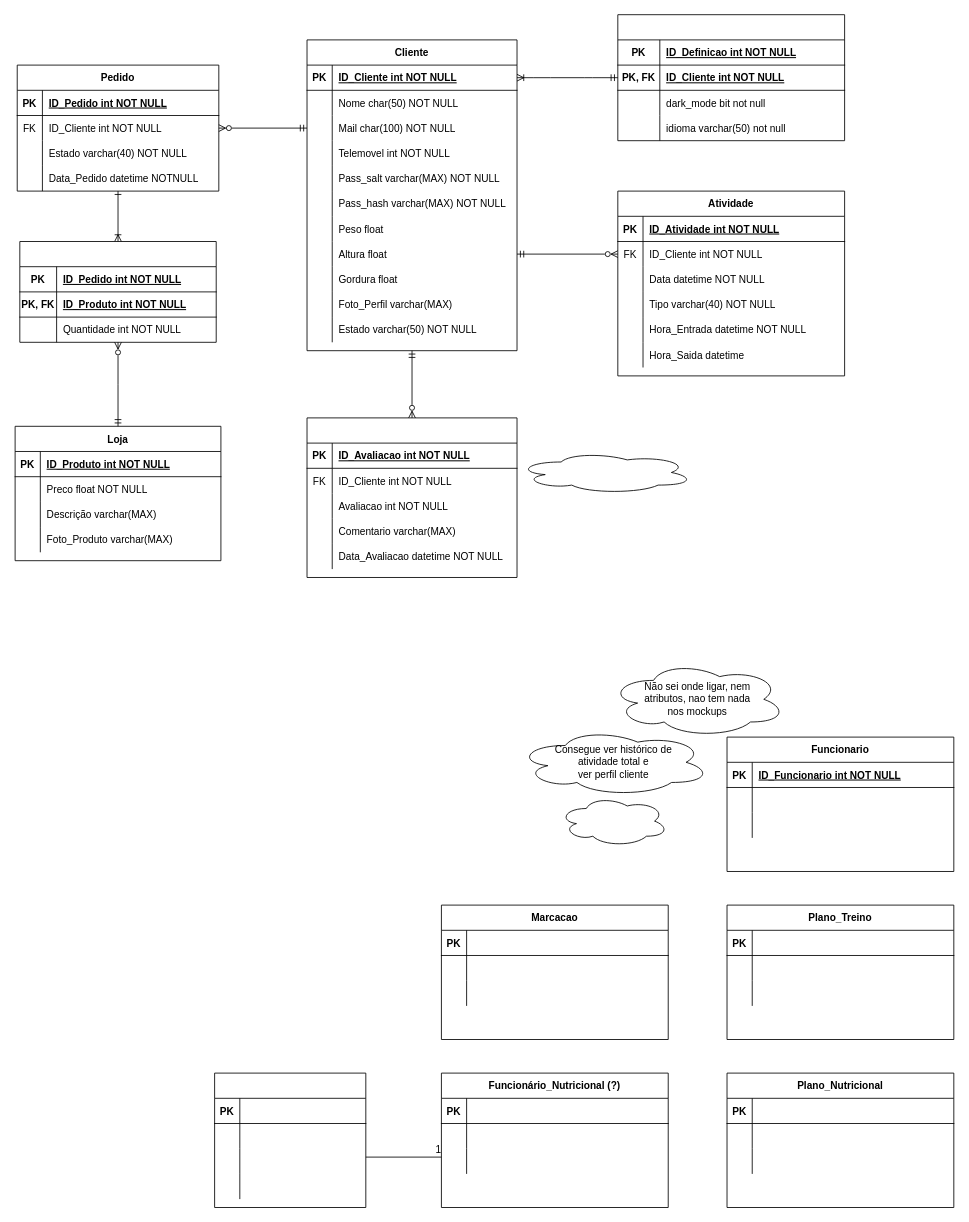
This 969x1222 diagram has some shape labels left out. The shapes that lost their labels are listed below. From the top down, each one's box as (x1, y1, x2, y2) in pixels, then its label:
(617, 14, 845, 141): Definições (?)
(19, 241, 216, 342): Pedido_Loja
(516, 451, 693, 494): Não sei onde ligar mais
(306, 417, 517, 578): Classificacao
(558, 795, 668, 846): Não há conta?
(214, 1072, 366, 1208): Horario_Funcionario
